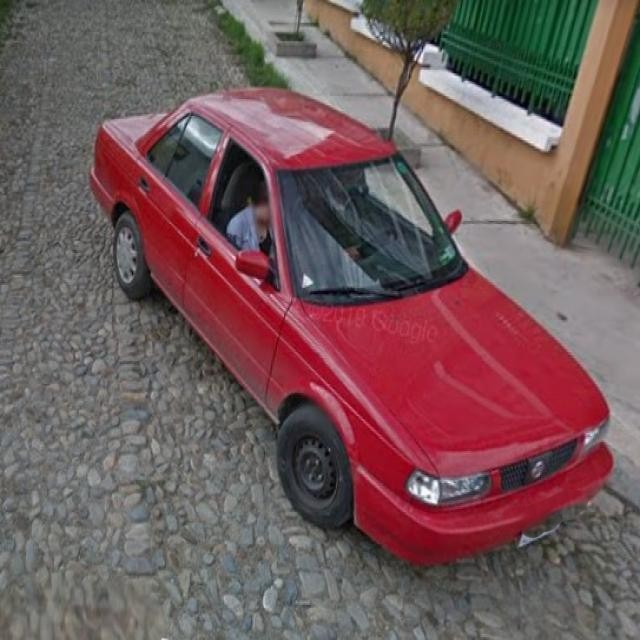car: (86, 89, 616, 564)
